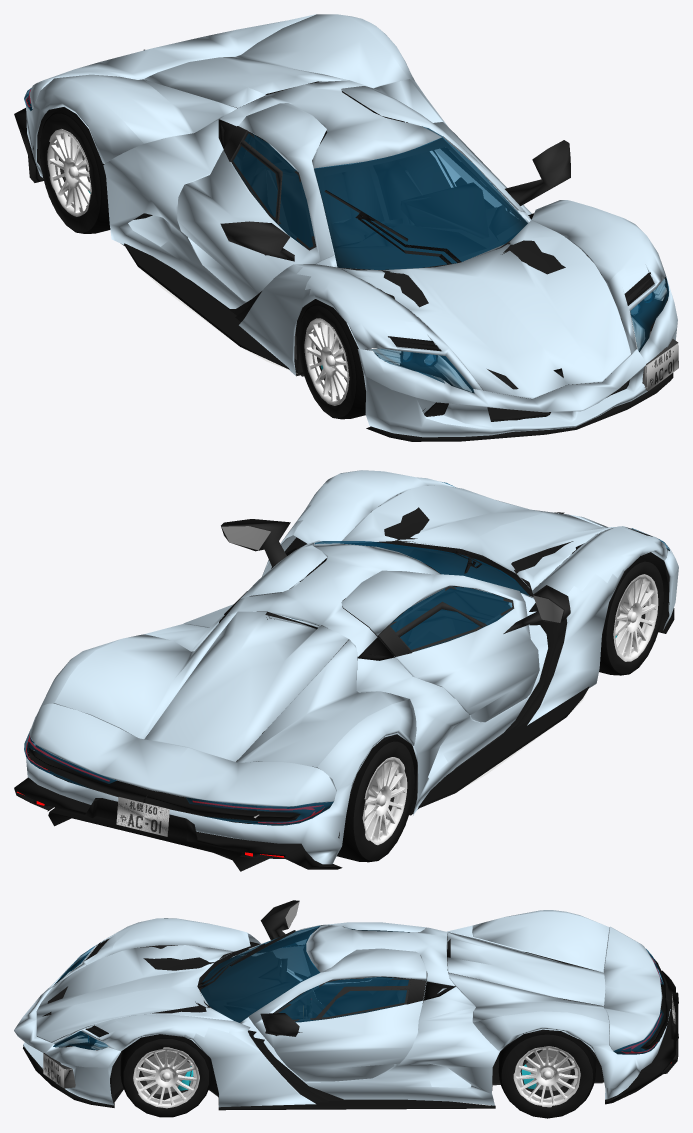
File: gt_owl_mid.glb
3 renders of one model, top to bottom at view 1: azimuth 30°, elevation 25°; view 2: azimuth 150°, elevation 25°; view 3: azimuth 270°, elevation 25°, orthographic. The views are drawn at different scales.
Parts seen in each view (by area): view 1: Object_9, Object_17, Object_20, Object_10, Object_13, Object_21, Object_14, WHEEL_RR_TIRE, WHEEL_RF_TIRE, WHEEL_RF_RIM, WHEEL_RR_RIM, Object_22 (+2 smaller); view 2: Object_9, Object_10, Object_13, Object_17, Object_20, Object_14, WHEEL_RR_TIRE, Object_21, WHEEL_RF_RIM, WHEEL_RR_RIM, WHEEL_RF_TIRE, Object_15 (+2 smaller); view 3: Object_9, Object_10, Object_17, Object_20, Object_13, WHEEL_LR_TIRE, WHEEL_LF_TIRE, Object_14, Object_21, WHEEL_LR_RIM, WHEEL_LF_RIM, Object_8 (+3 smaller).
Boxes of the visible parts, left/top/right/bottom form: Object_9: left=26, top=14, right=677, bottom=437; Object_17: left=24, top=87, right=668, bottom=392; Object_20: left=27, top=49, right=668, bottom=437; Object_10: left=29, top=14, right=347, bottom=108; Object_13: left=14, top=108, right=673, bottom=441; Object_21: left=233, top=94, right=601, bottom=389; Object_14: left=220, top=126, right=570, bottom=261; WHEEL_RR_TIRE: left=40, top=108, right=110, bottom=233; WHEEL_RF_TIRE: left=298, top=303, right=365, bottom=419; WHEEL_RF_RIM: left=304, top=318, right=349, bottom=405; WHEEL_RR_RIM: left=47, top=129, right=91, bottom=216; Object_22: left=371, top=278, right=666, bottom=391; Object_9: left=26, top=470, right=678, bottom=864; Object_10: left=29, top=611, right=348, bottom=806; Object_13: left=14, top=493, right=674, bottom=871; Object_17: left=24, top=482, right=669, bottom=825; Object_20: left=26, top=494, right=669, bottom=838; Object_14: left=221, top=519, right=570, bottom=656; WHEEL_RR_TIRE: left=337, top=737, right=414, bottom=862; Object_21: left=305, top=507, right=605, bottom=655; WHEEL_RF_RIM: left=613, top=574, right=658, bottom=661; WHEEL_RR_RIM: left=362, top=757, right=407, bottom=845; WHEEL_RF_TIRE: left=599, top=556, right=663, bottom=675; Object_15: left=116, top=796, right=169, bottom=836; Object_9: left=14, top=910, right=670, bottom=1107; Object_10: left=447, top=926, right=662, bottom=1051; Object_17: left=53, top=925, right=663, bottom=1054; Object_20: left=54, top=927, right=672, bottom=1104; Object_13: left=23, top=939, right=678, bottom=1110; WHEEL_LR_TIRE: left=498, top=1031, right=595, bottom=1118; WHEEL_LF_TIRE: left=120, top=1034, right=212, bottom=1117; Object_14: left=260, top=900, right=426, bottom=1036; Object_21: left=42, top=930, right=406, bottom=1041; WHEEL_LR_RIM: left=513, top=1046, right=580, bottom=1107; WHEEL_LF_RIM: left=133, top=1047, right=199, bottom=1108; Object_8: left=139, top=944, right=646, bottom=1100.
Size of the model in its own units: 2.16 by 0.9953 by 4.8.
Materials: 21 (5 with a texture image).
